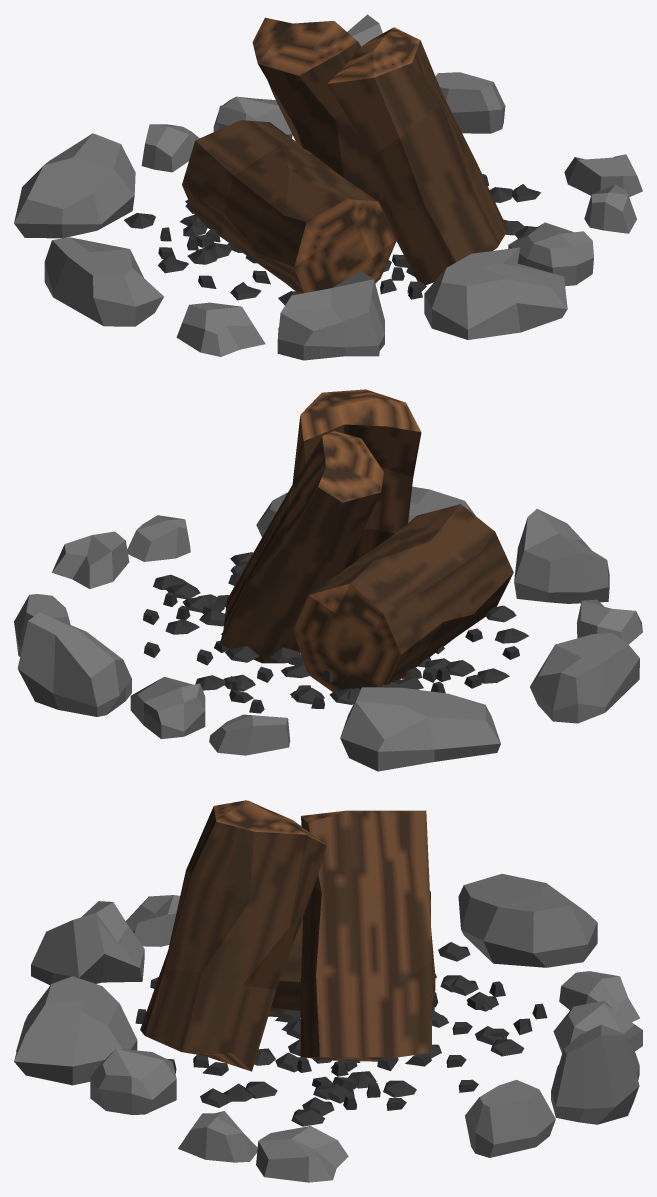
Rendered from Bonfire1.fbx.
The picture shows the model from 3 angles, top to bottom: view 1: azimuth 30°, elevation 25°; view 2: azimuth 150°, elevation 25°; view 3: azimuth 270°, elevation 25°; orthographic projection. The views are drawn at different scales.
Parts seen in each view (by area): view 1: Bonfire; view 2: Bonfire; view 3: Bonfire.
Boxes of the visible parts, <box> form: Bonfire: <box>14,14,642,360</box>; Bonfire: <box>14,389,642,771</box>; Bonfire: <box>14,800,642,1182</box>.
Size of the model in its own units: 119 by 46.43 by 107.
